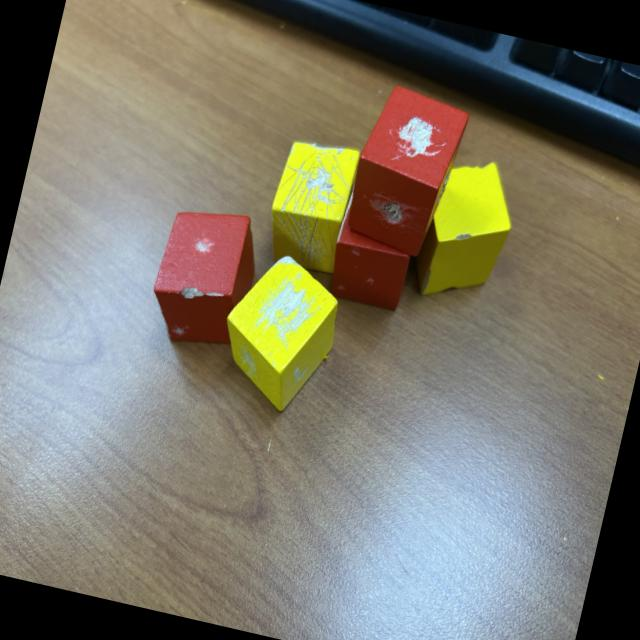broken: (208, 244, 350, 421), (340, 79, 473, 262), (402, 148, 524, 312), (142, 198, 268, 355), (258, 134, 362, 277), (323, 178, 424, 312)
